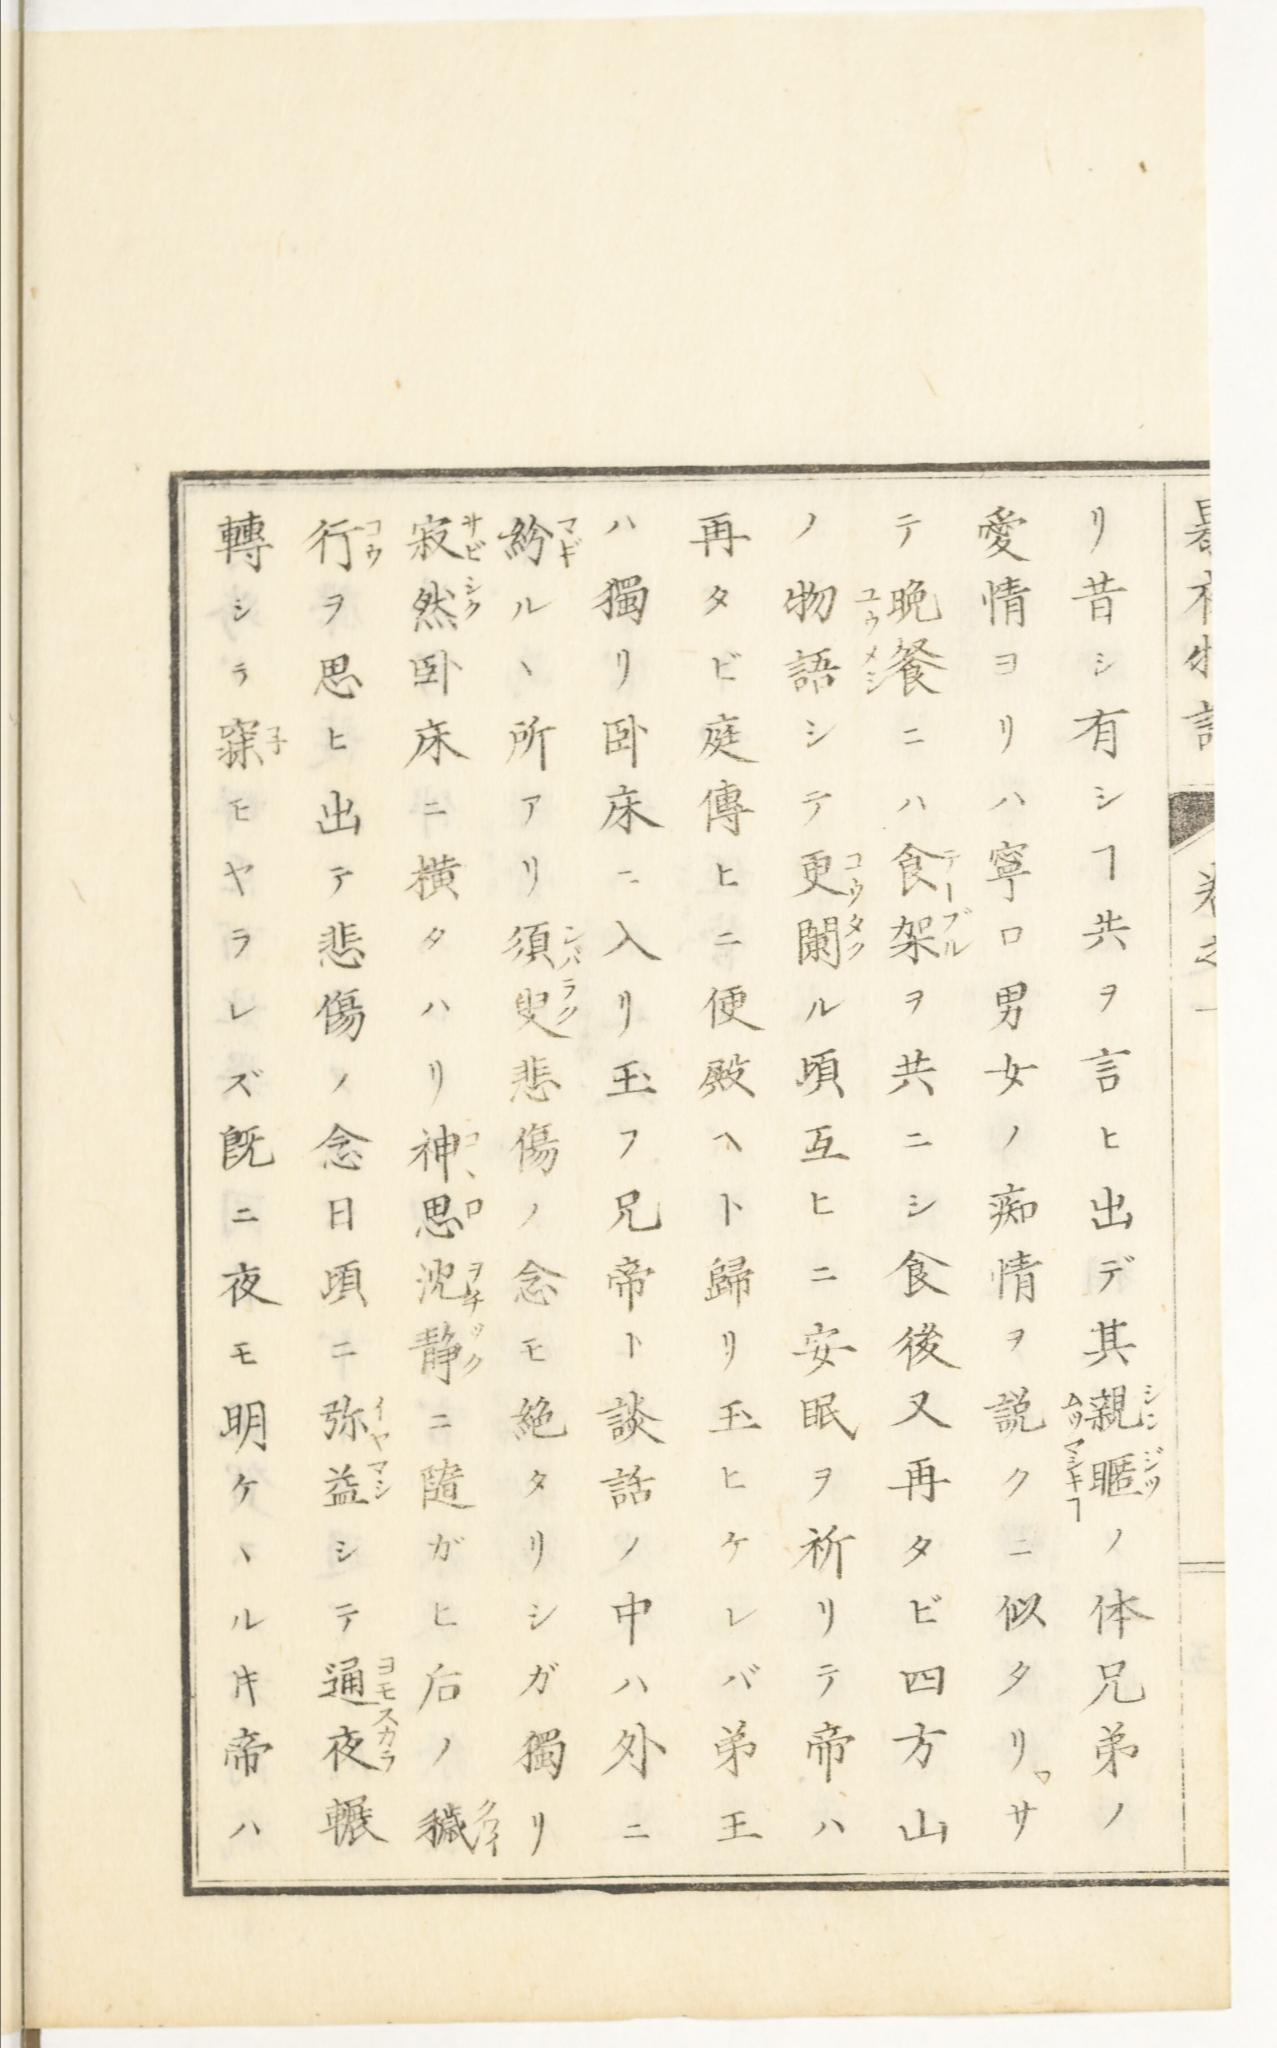MainZone-Character: (412, 1792, 511, 1864), (322, 1705, 406, 1780), (408, 1321, 488, 1395), (302, 509, 391, 575), (511, 974, 586, 1049), (408, 506, 494, 571), (1090, 1440, 1170, 1511), (207, 717, 297, 778), (499, 512, 587, 574), (316, 1389, 394, 1457), (403, 1186, 487, 1248), (887, 837, 965, 903), (400, 1123, 487, 1181), (887, 908, 978, 964), (789, 906, 872, 967), (500, 914, 587, 971), (406, 571, 485, 633), (313, 1458, 400, 1512), (312, 1654, 406, 1704), (1087, 1374, 1162, 1436), (405, 1254, 487, 1309), (794, 847, 871, 905)
MainZone-Ruby: (940, 906, 981, 962), (369, 1707, 399, 1777), (550, 516, 588, 569), (478, 1793, 506, 1861), (456, 508, 488, 565), (359, 515, 387, 577), (462, 1321, 488, 1377), (1142, 1440, 1167, 1499), (368, 1392, 393, 1451), (558, 921, 587, 971), (842, 911, 871, 959), (555, 974, 580, 1030), (936, 842, 958, 905), (1140, 1376, 1164, 1434), (369, 1654, 399, 1701), (259, 719, 291, 762), (363, 1458, 394, 1502), (458, 571, 483, 624), (843, 850, 868, 902), (460, 1128, 483, 1180), (465, 1256, 485, 1309), (462, 1192, 484, 1221)
